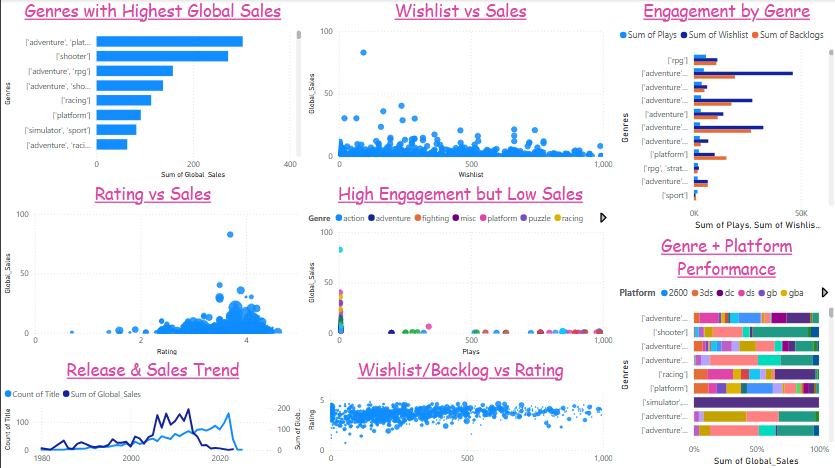

The page's visual inventory and layout, read from the dashboard file:
{"tool":"powerbi","page":{"name":"Page 3","canvas":[1280,720],"ordinal":2},"visuals":[{"type":"clusteredBarChart","title":"Genres with Highest Global Sales","fields":{"Category":["cleaned_games.Genres"],"Y":["Sum(cleaned_vgsales.Global_Sales)"]},"box":[0,0,465,279.7],"z":0},{"type":"scatterChart","title":"Rating vs Sales","fields":{"X":["cleaned_games.Rating"],"Y":["cleaned_vgsales.Global_Sales"],"Size":["Sum(cleaned_games.Wishlist)"]},"box":[0,279.7,465,270.1],"z":1000},{"type":"lineChart","title":"Release & Sales Trend","fields":{"Category":["cleaned_games.Year"],"Y":["CountNonNull(cleaned_games.Title)"],"Y2":["Sum(cleaned_vgsales.Global_Sales)"]},"box":[0,549.7,465,171],"z":2000},{"type":"scatterChart","title":"Wishlist vs Sales","fields":{"X":["cleaned_games.Wishlist"],"Y":["cleaned_vgsales.Global_Sales"]},"box":[465,0,476.2,279.7],"z":3000},{"type":"scatterChart","title":"High Engagement but Low Sales","fields":{"X":["cleaned_games.Plays"],"Y":["cleaned_vgsales.Global_Sales"],"Series":["cleaned_vgsales.Genre"]},"box":[465,279.7,476.2,270.1],"z":4000},{"type":"scatterChart","title":"Wishlist/Backlog vs Rating","fields":{"X":["cleaned_games.Wishlist"],"Y":["cleaned_games.Rating"],"Size":["Sum(cleaned_games.Backlogs)"]},"box":[465,549.7,476.2,171],"z":5000},{"type":"clusteredBarChart","title":"Engagement by Genre","fields":{"Category":["cleaned_games.Genres"],"Y":["Sum(cleaned_games.Plays)","Sum(cleaned_games.Wishlist)","Sum(cleaned_games.Backlogs)"]},"box":[941.2,0,338.8,359.6],"z":6000},{"type":"hundredPercentStackedBarChart","title":"Genre + Platform Performance","fields":{"Category":["cleaned_games.Genres"],"Series":["cleaned_vgsales.Platform"],"Y":["Sum(cleaned_vgsales.Global_Sales)"]},"box":[941.2,359.6,338.8,361.1],"z":7000}]}

Visuals, with their boxes in screenshot pixels (x1, y1, x2, y2), scaled from the page's 1280x720 canvas onto the 835x468 screenshot:
"Genres with Highest Global Sales" clusteredBarChart: 0,0,303,182
"Rating vs Sales" scatterChart: 0,182,303,357
"Release & Sales Trend" lineChart: 0,357,303,467
"Wishlist vs Sales" scatterChart: 303,0,614,182
"High Engagement but Low Sales" scatterChart: 303,182,614,357
"Wishlist/Backlog vs Rating" scatterChart: 303,357,614,467
"Engagement by Genre" clusteredBarChart: 614,0,834,234
"Genre + Platform Performance" hundredPercentStackedBarChart: 614,234,834,467
